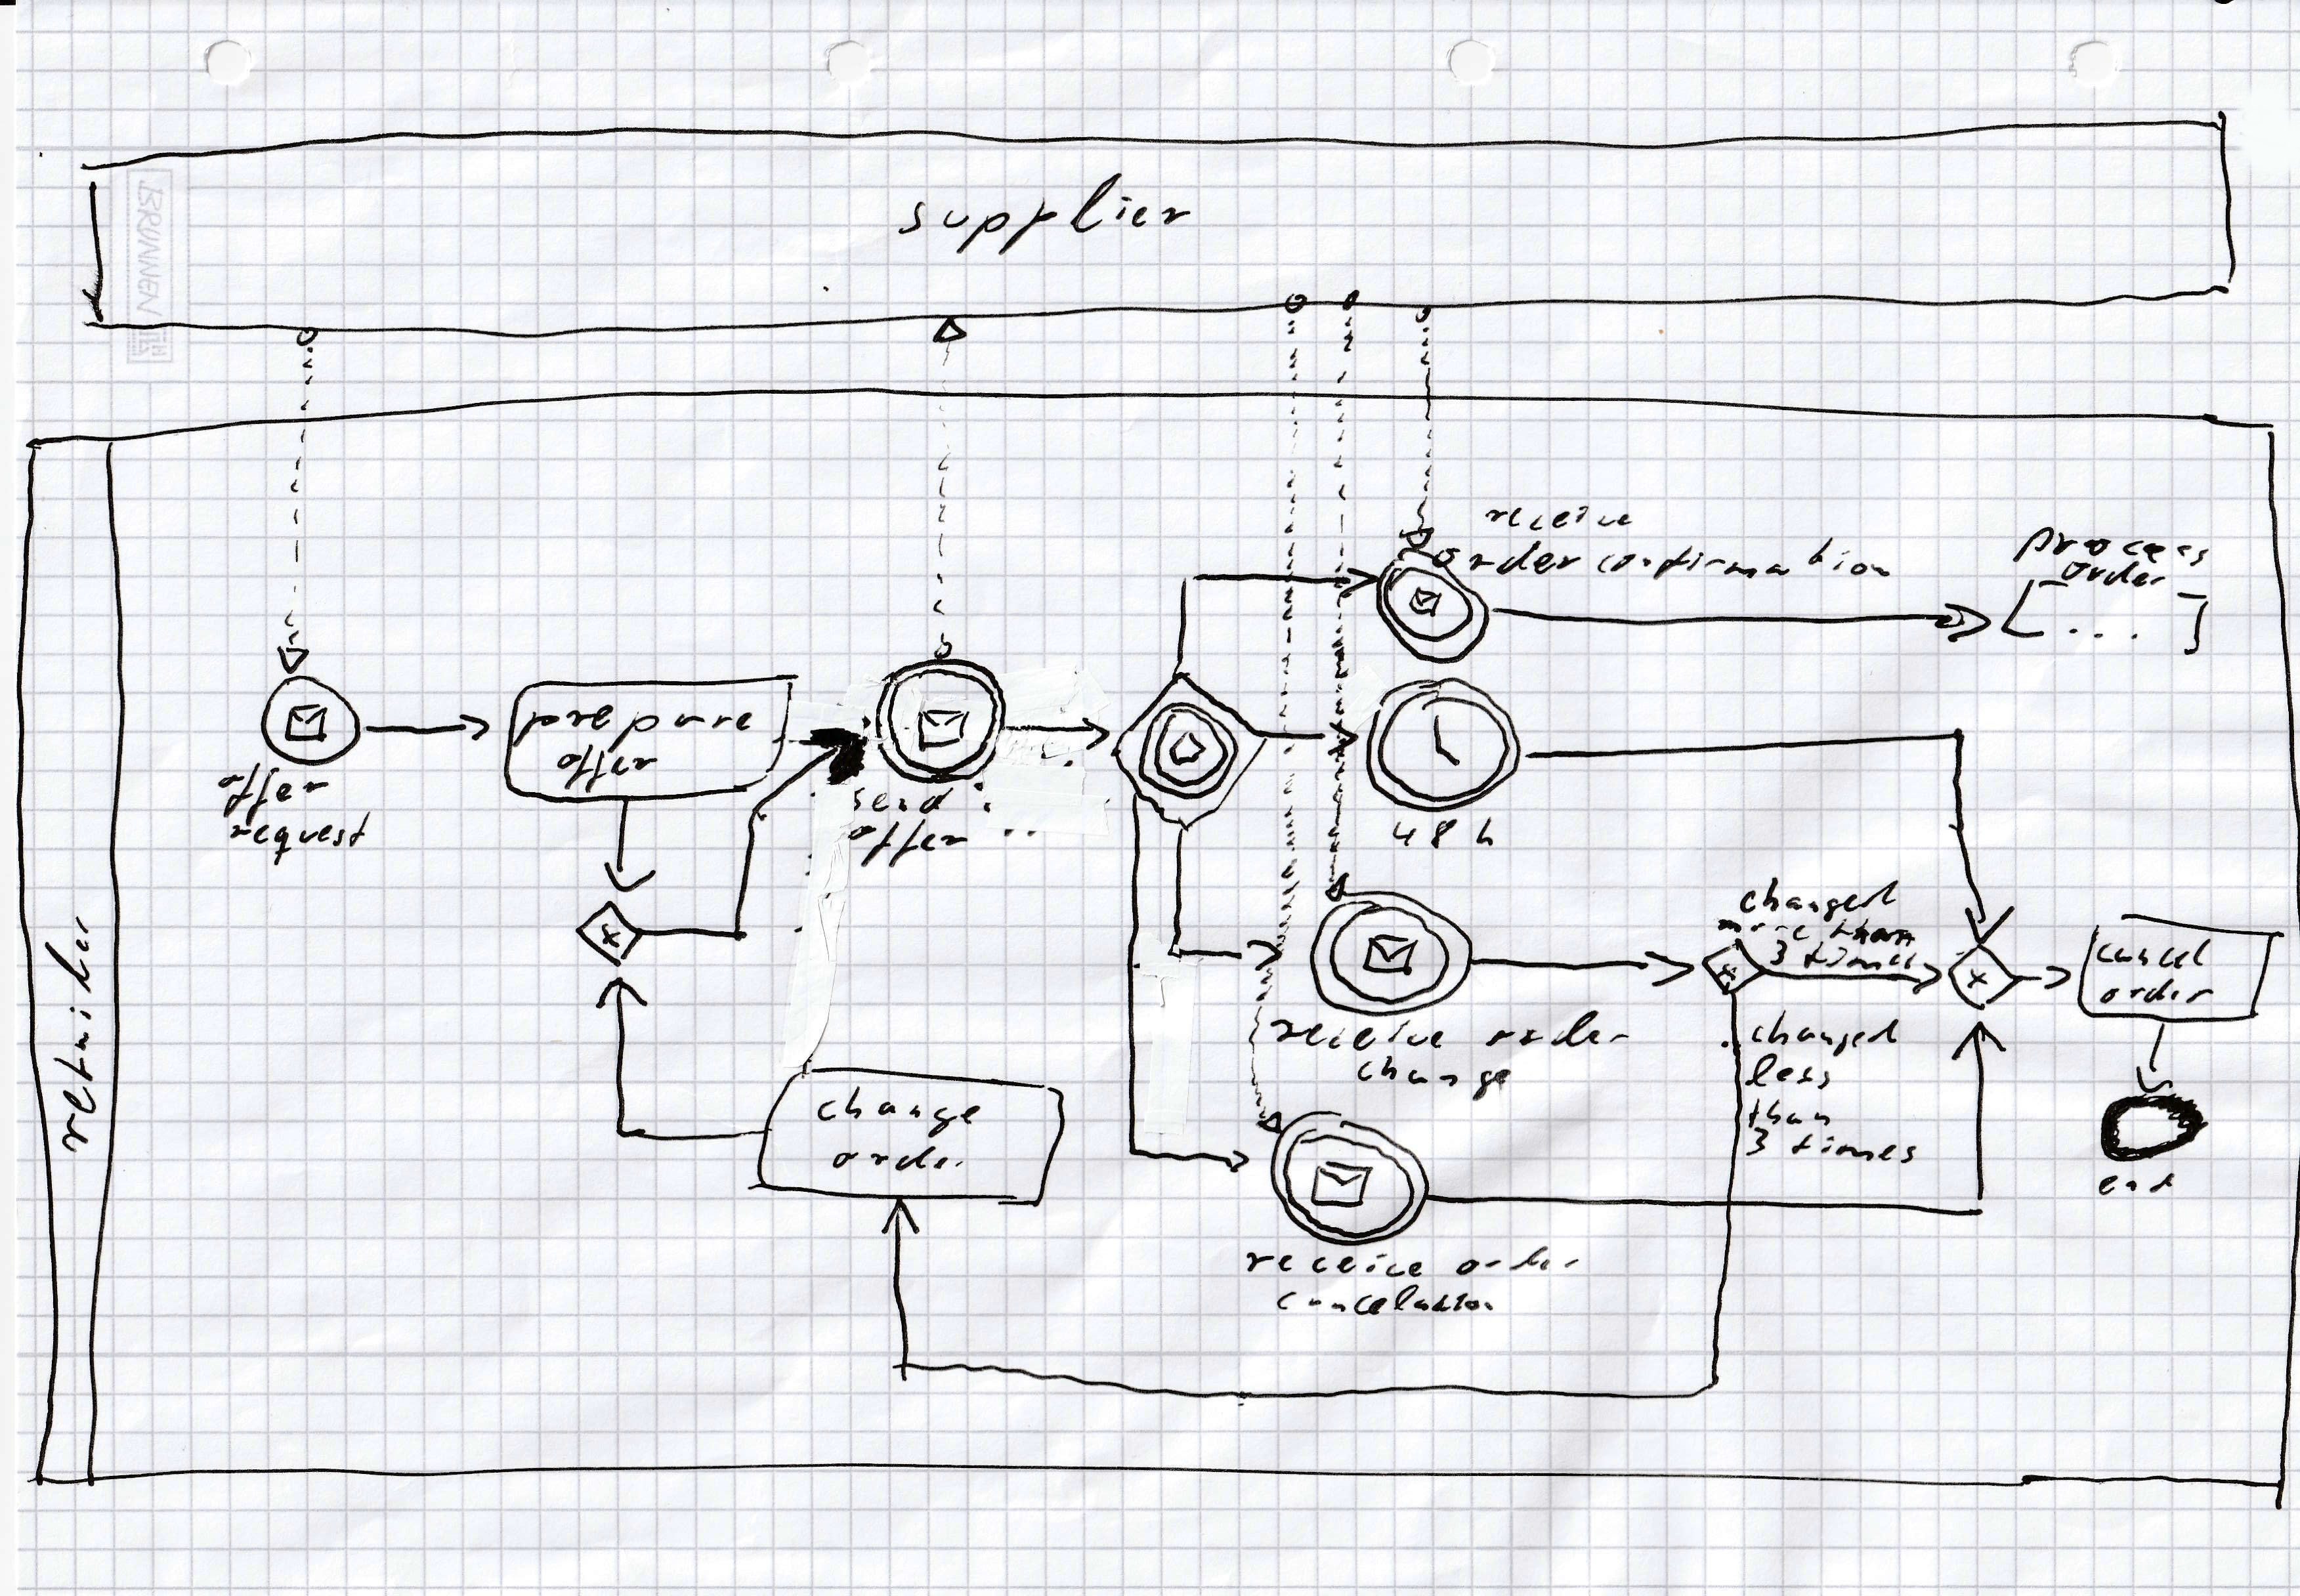3: (1746, 1124, 1772, 1161), (1767, 935, 1791, 970)
48: (1388, 809, 1452, 855)
cancel: (2092, 932, 2216, 974)
cancellation: (1274, 1285, 1498, 1320)
change: (1349, 1047, 1514, 1098), (816, 1087, 982, 1136)
changed: (1735, 878, 1903, 919), (1746, 1012, 1907, 1056)
confirmation: (1590, 540, 1905, 584)
end: (2092, 1168, 2176, 1199)
h: (1472, 811, 1507, 860)
less: (1751, 1051, 1832, 1096)
more: (1718, 909, 1809, 942)
offer: (213, 764, 337, 816), (848, 816, 975, 860), (552, 745, 668, 788)
order: (1437, 538, 1585, 582), (1491, 1009, 1629, 1054), (835, 1145, 968, 1176), (2062, 554, 2164, 594), (1461, 1246, 1578, 1280), (2099, 977, 2216, 1010)
prepare: (535, 701, 750, 739)
process: (2029, 524, 2207, 573)
receice: (1250, 1245, 1440, 1283)
receive: (1271, 1016, 1445, 1056), (1489, 503, 1638, 535)
request: (224, 811, 371, 855)
retailer: (47, 919, 100, 1143)
send: (848, 780, 949, 822)
supplier: (898, 168, 1195, 260)
than: (1741, 1100, 1835, 1138), (1823, 914, 1916, 951)
times: (1795, 1128, 1917, 1169), (1800, 942, 1916, 975)
